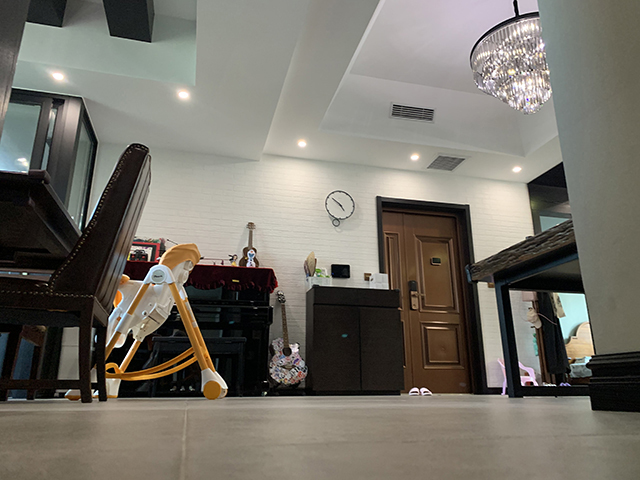cabinet: (302, 283, 404, 395)
slippers: (418, 383, 434, 398), (408, 388, 420, 396)
stool: (1, 140, 151, 403), (147, 334, 248, 398), (496, 356, 539, 395)
table: (464, 218, 594, 399)
